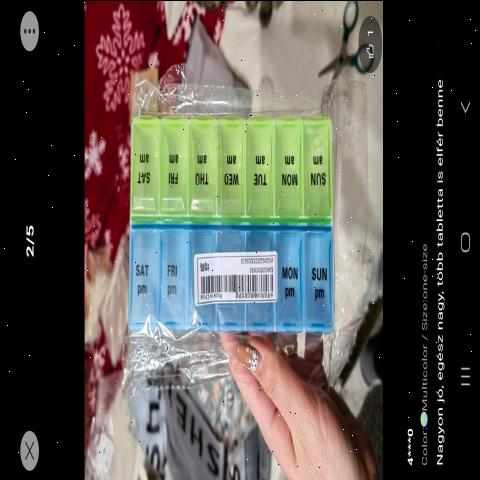PillBox: (105, 68, 334, 402)
